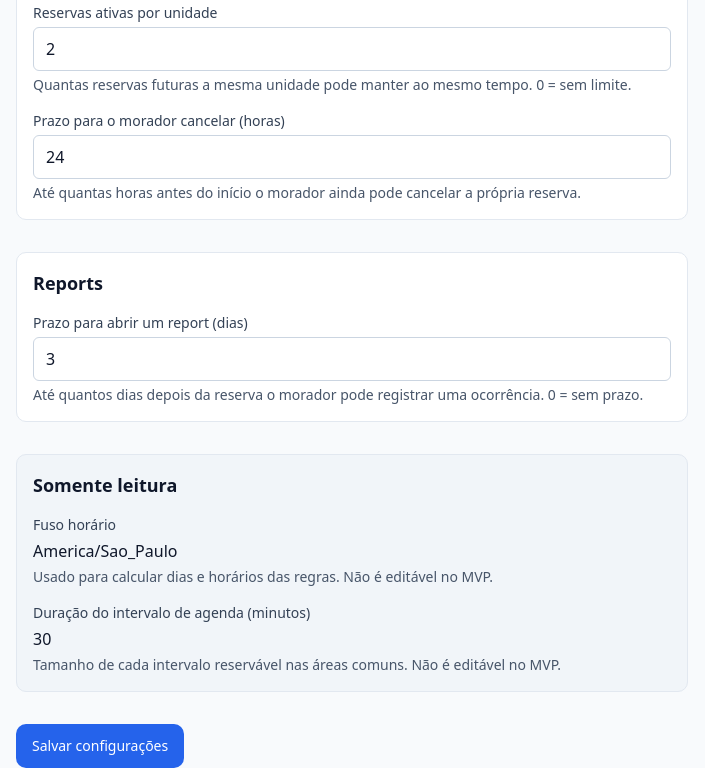
Test: SettingsPage › carrega com defaultPaymentWhatsapp nulo e salva com sucesso (Bug 4, docs/12)
The width and height of the screenshot is (705, 768).
(page scrolled)
Click the button "Salvar configurações": {"x": 100, "y": 746} top-left (16, 724), bottom-right (184, 767)
(page scrolled)
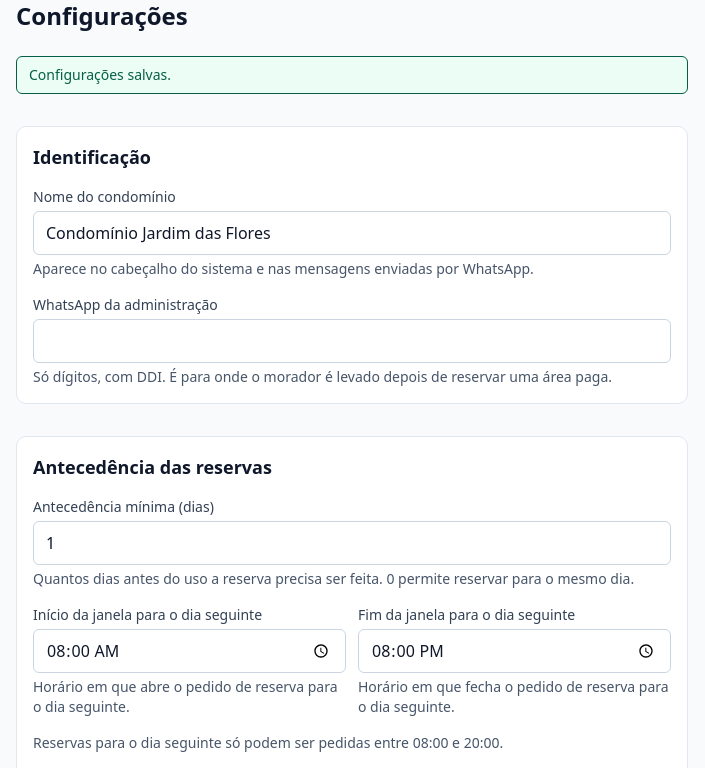
Expected: the text "Configurações salvas." is shown, top-left (16, 56), bottom-right (688, 94)
